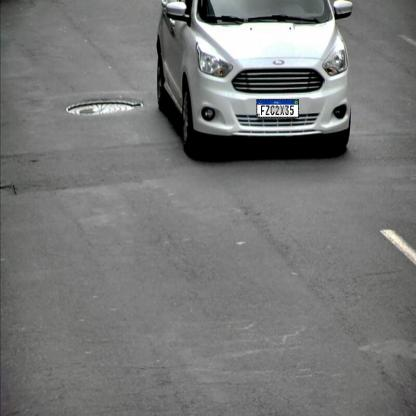PlacaM: (256, 99, 299, 118)
